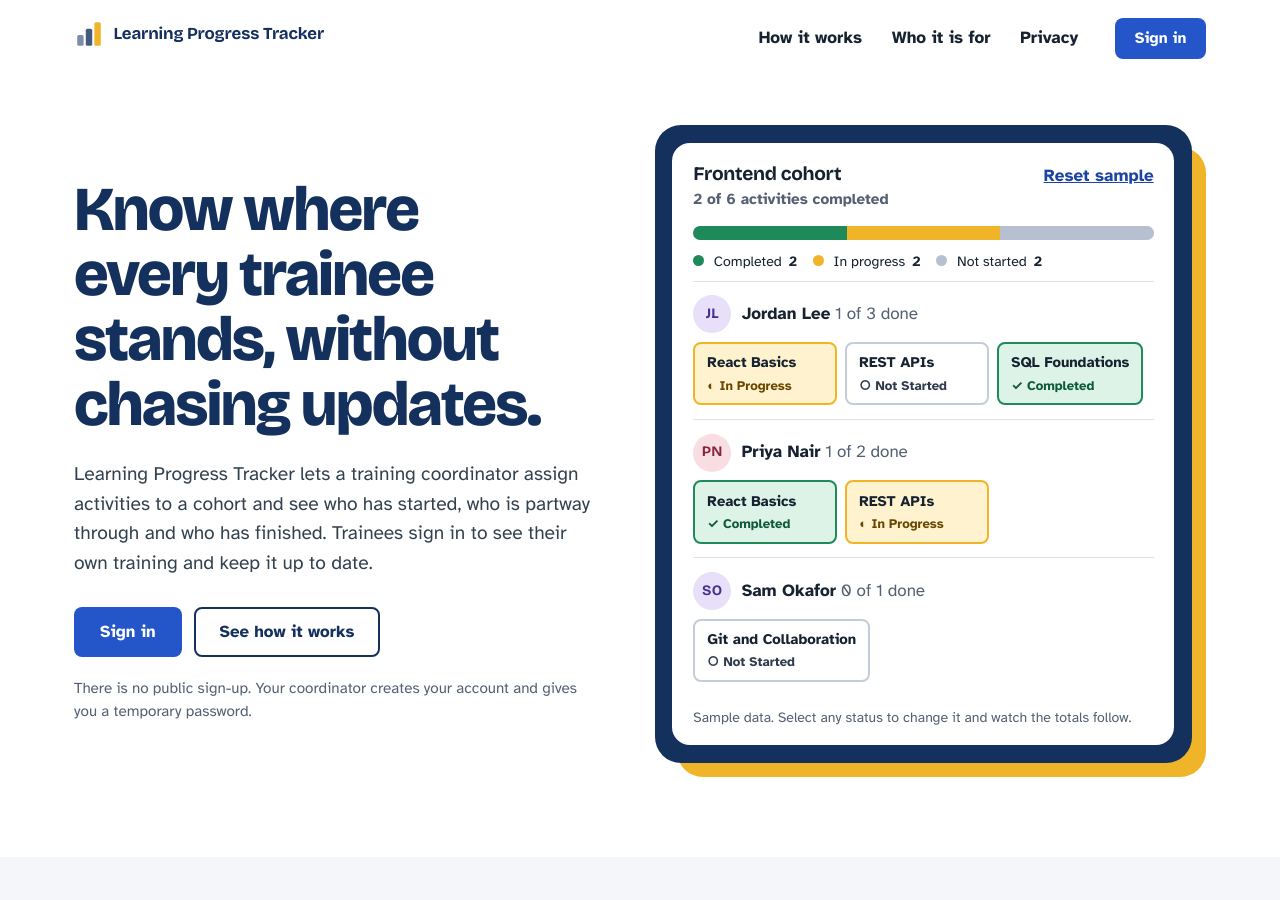
it: LandingPage › lets visitors try the sample board: statuses change and the totals follow
This screenshot has width=1280, height=900.
Expected: the text "2 of 6 activities completed" is shown, x1=693 y1=188 x2=888 y2=212
Click the button with aria-label "Sam Okafor, Git and Collaboration" at (782, 650), box x1=693 y1=618 x2=870 y2=682
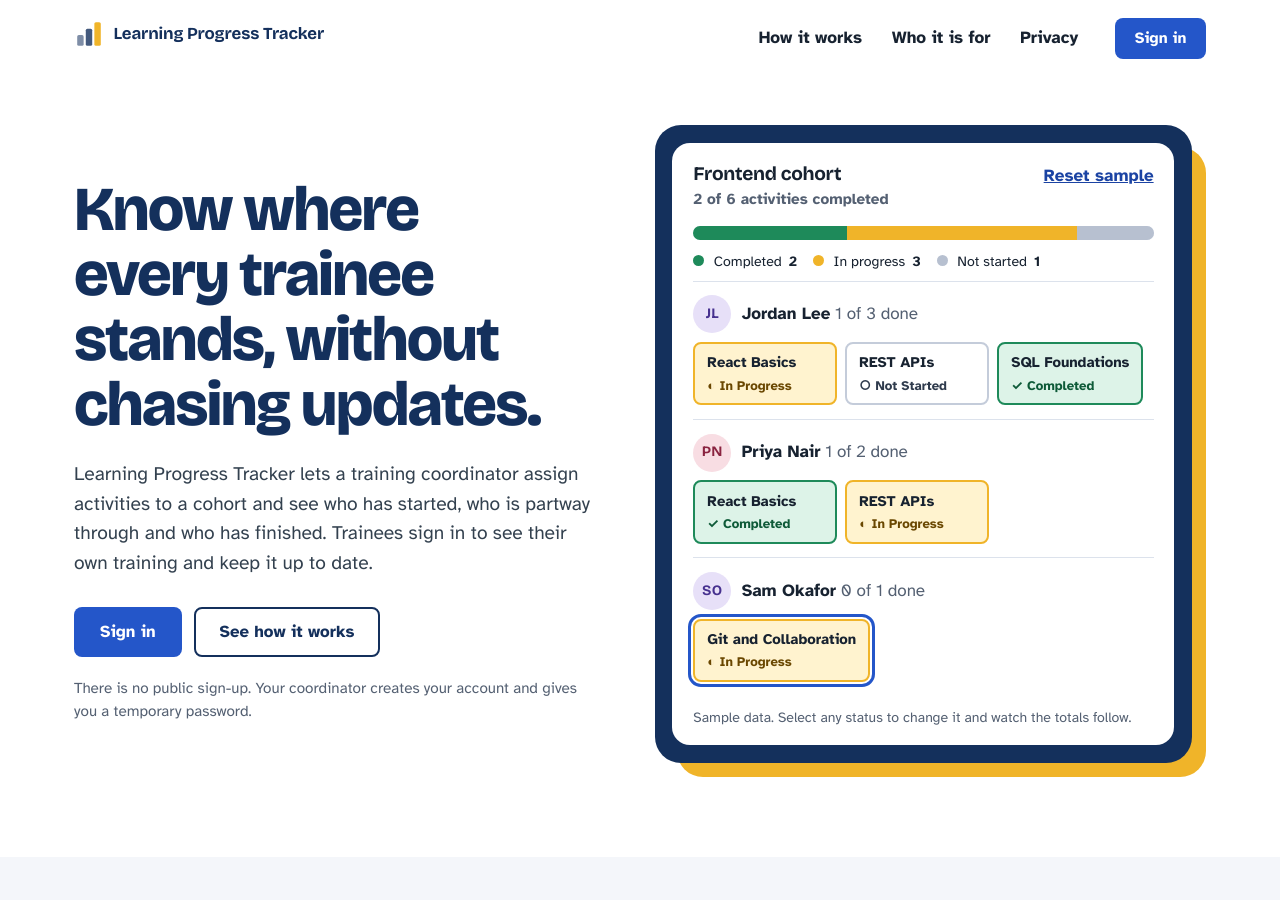
Expected: the text "2 of 6 activities completed" is shown, x1=693 y1=188 x2=888 y2=212
Click the button with aria-label "Sam Okafor, Git and Collaboration" at (782, 650), box x1=693 y1=618 x2=870 y2=682
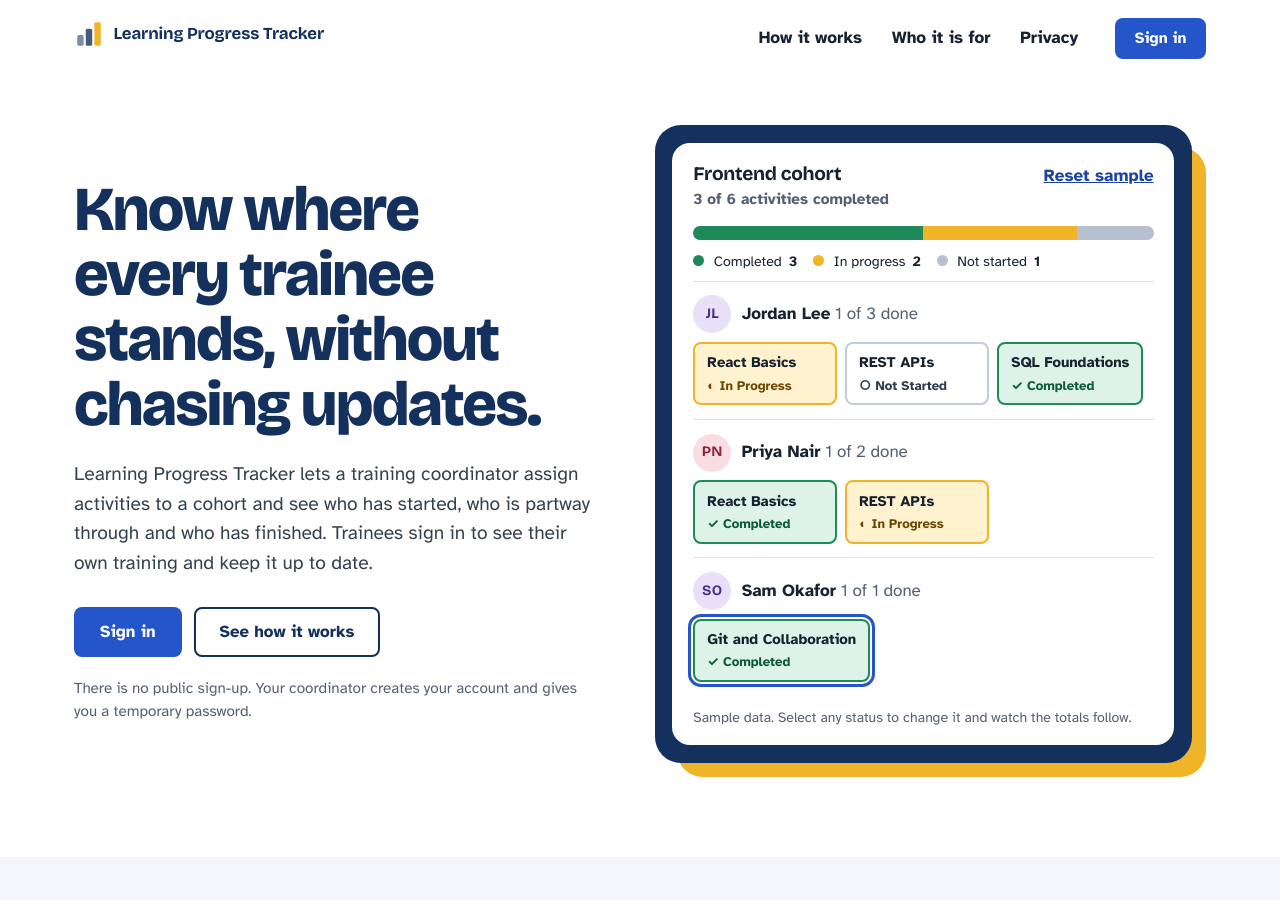
Result: the text "3 of 6 activities completed" is shown at x1=693 y1=188 x2=889 y2=212
Click the button "Reset sample" at (1099, 176), box x1=1044 y1=163 x2=1154 y2=189
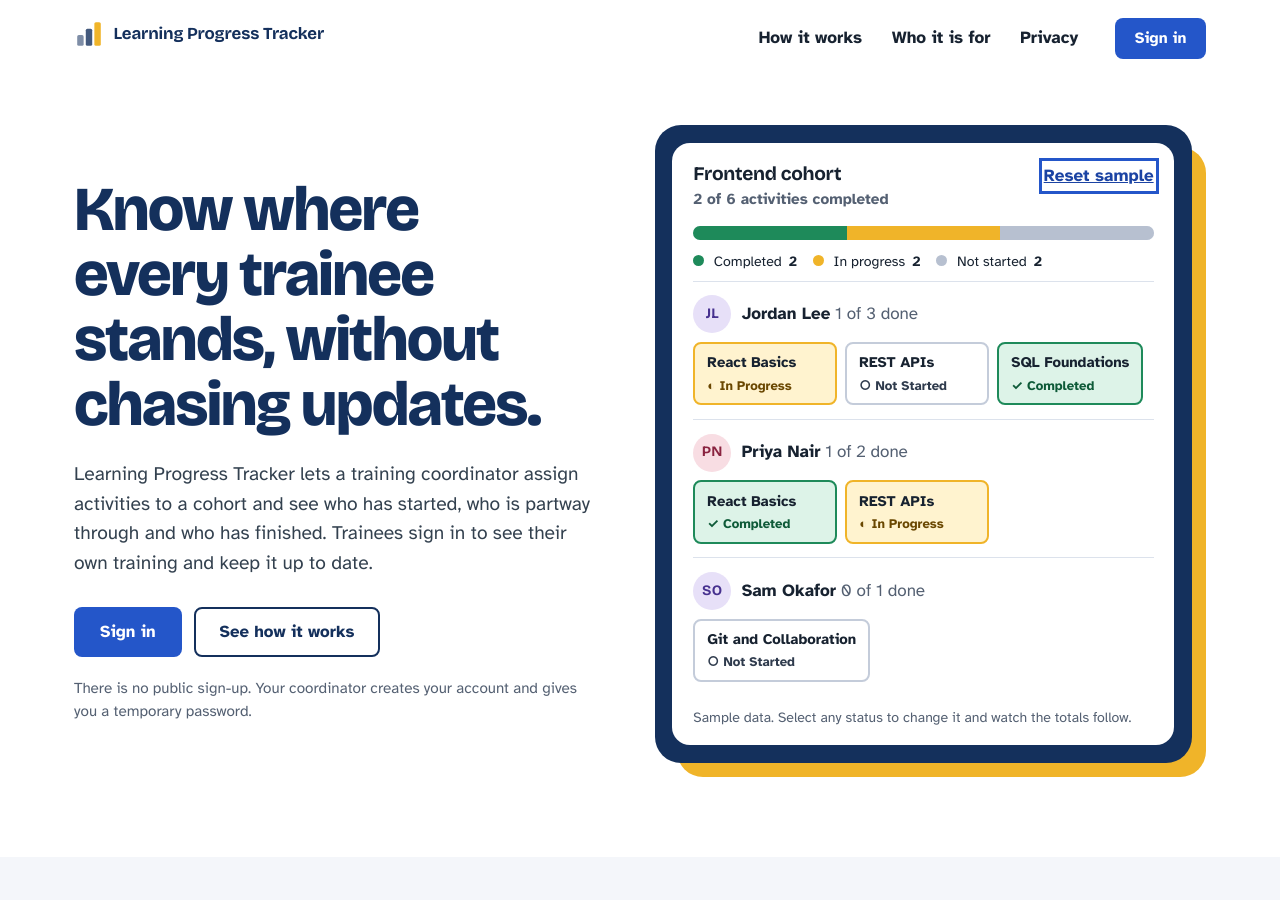
Result: the text "2 of 6 activities completed" is shown at x1=693 y1=188 x2=888 y2=212
